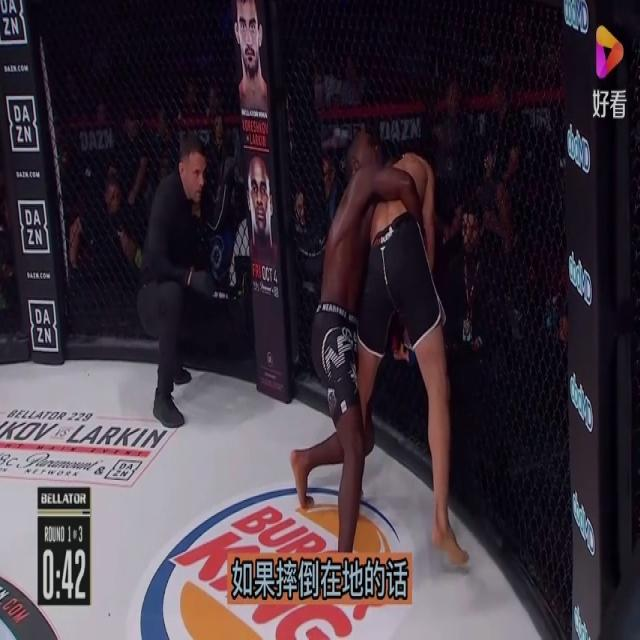fight: (291, 119, 488, 617)
